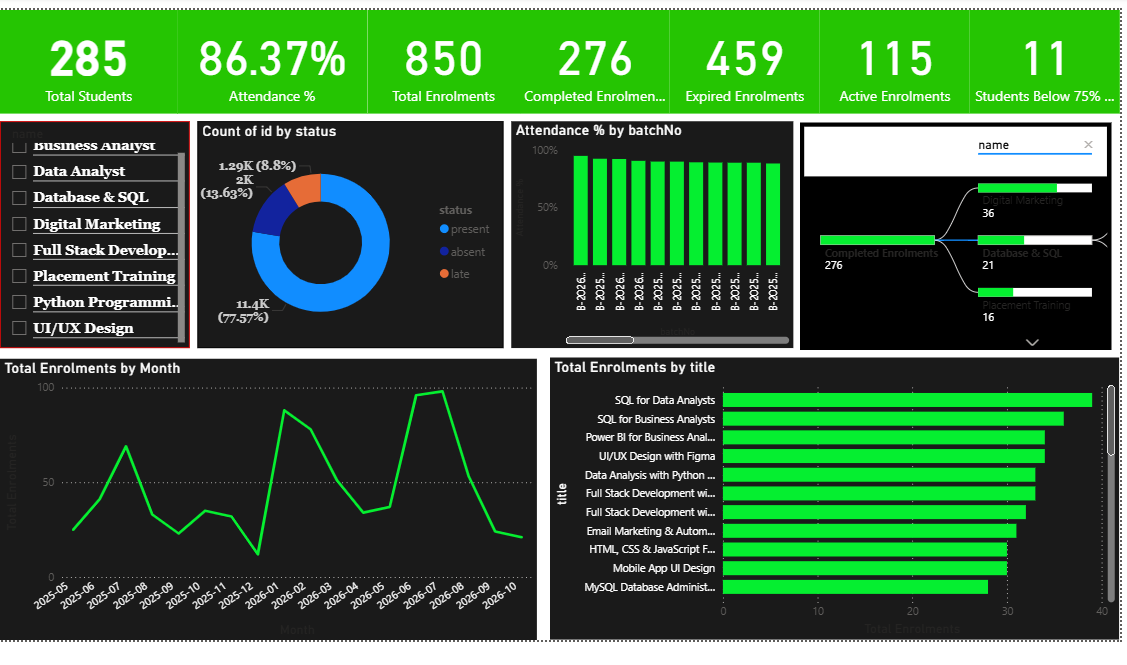

The dashboard page shown, as its layout file describes it:
{"tool":"powerbi","page":{"name":"Page 1","canvas":[1280,720],"ordinal":0},"visuals":[{"type":"card","fields":{"Values":["brassy_lms users.Total Students"]},"box":[230.5,0,259.3,118],"z":0},{"type":"card","fields":{"Values":["brassy_lms attendance_records.Total Enrolments"]},"box":[499.5,0,259.3,118],"z":1000},{"type":"card","fields":{"Values":["brassy_lms attendance_records.Completed Enrolments"]},"box":[768.4,0,259.3,118],"z":3000},{"type":"card","fields":{"Values":["brassy_lms attendance_records.Expired Enrolments"]},"box":[1040.1,0,240.1,118],"z":4000},{"type":"lineChart","fields":{"Category":["brassy_lms enrolments.Month"],"Y":["brassy_lms attendance_records.Total Enrolments"]},"box":[0,397.9,613.4,322.5],"z":5000},{"type":"clusteredBarChart","fields":{"Y":["brassy_lms attendance_records.Total Enrolments"],"Category":["brassy_lms courses.title"]},"box":[629.1,397.5,650.6,322.8],"z":6000},{"type":"slicer","fields":{"Values":["brassy_lms categories.name"]},"box":[0,0,216.8,118],"z":7000},{"type":"clusteredColumnChart","fields":{"Y":["brassy_lms attendance_records.Attendance %"],"Category":["brassy_lms batches.batchNo"]},"box":[628.5,127.6,650.4,259.3],"z":10000},{"type":"donutChart","fields":{"Category":["brassy_lms attendance_records.status"],"Y":["CountNonNull(brassy_lms attendance_records.id)"]},"box":[0,127.6,613.4,259.3],"z":11000}]}

Visuals, with their boxes on the page's 1280x720 design canvas (x1, y1, x2, y2). These are canvas units, not pixel positions in the 1127x665 screenshot, which may show the page scaled, cropped or inside an application window:
card - brassy_lms users.Total Students: [230,0,490,118]
card - brassy_lms attendance_records.Total Enrolments: [500,0,759,118]
card - brassy_lms attendance_records.Completed Enrolments: [768,0,1028,118]
card - brassy_lms attendance_records.Expired Enrolments: [1040,0,1280,118]
lineChart - brassy_lms enrolments.Month x brassy_lms attendance_records.Total Enrolments: [0,398,613,720]
clusteredBarChart - brassy_lms attendance_records.Total Enrolments x brassy_lms courses.title: [629,398,1280,720]
slicer - brassy_lms categories.name: [0,0,217,118]
clusteredColumnChart - brassy_lms attendance_records.Attendance % x brassy_lms batches.batchNo: [628,128,1279,387]
donutChart - brassy_lms attendance_records.status x CountNonNull(brassy_lms attendance_records.id): [0,128,613,387]
